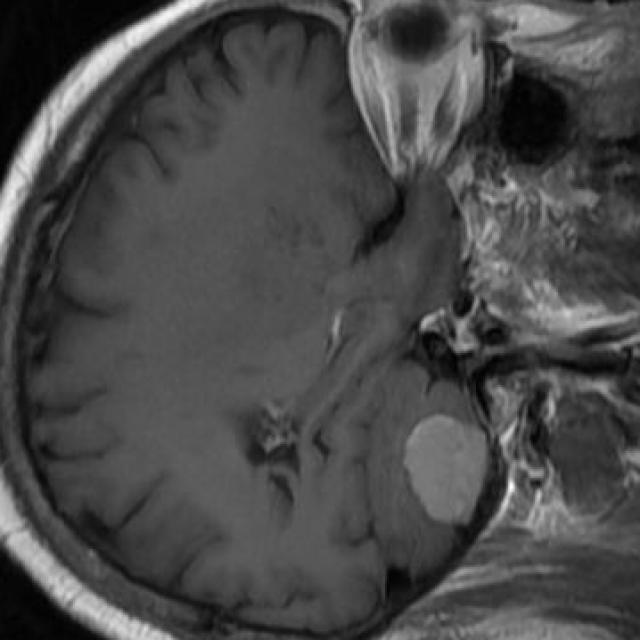meningioma: (403, 415, 487, 524)
